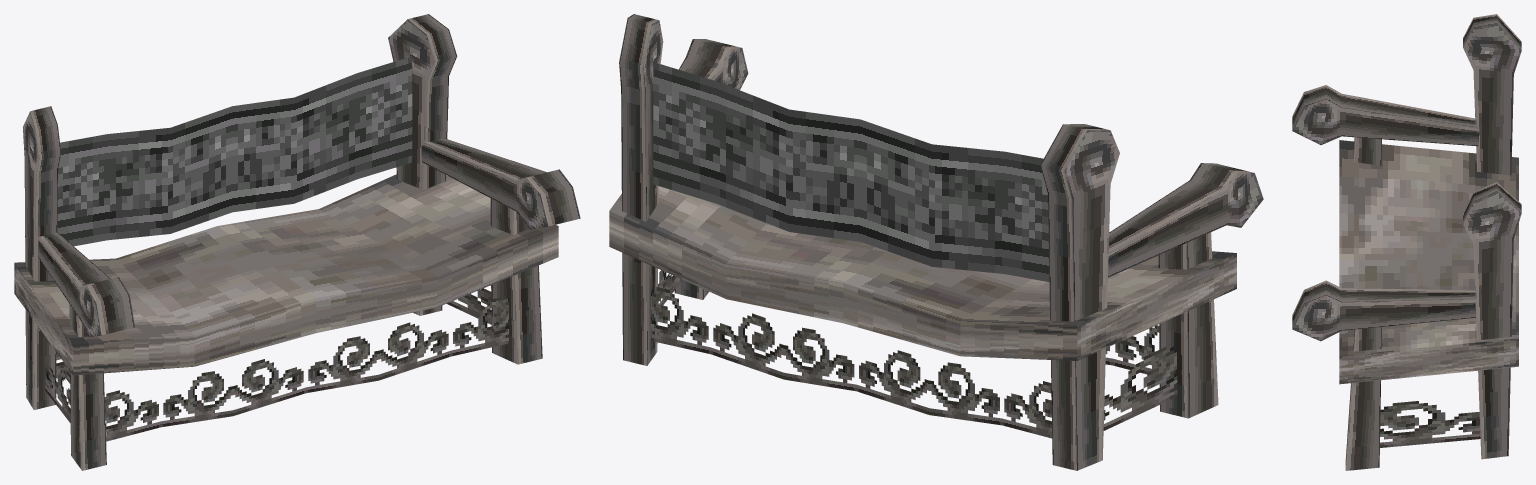
The model's file is o_isu-3.glb.
3 renders of one model, left to right at view 1: azimuth 30°, elevation 25°; view 2: azimuth 150°, elevation 25°; view 3: azimuth 270°, elevation 25°, orthographic. The views are drawn at different scales.
Parts seen in each view (by area): view 1: o_isu; view 2: o_isu; view 3: o_isu.
Part boxes in pixels (box(x1,y1,x2,y2)): o_isu: box(14, 14, 580, 470); o_isu: box(609, 14, 1263, 470); o_isu: box(1292, 14, 1521, 470).
Bounding box in the file's own units: 392 × 225 × 176.
Materials: 4 (4 with a texture image).
